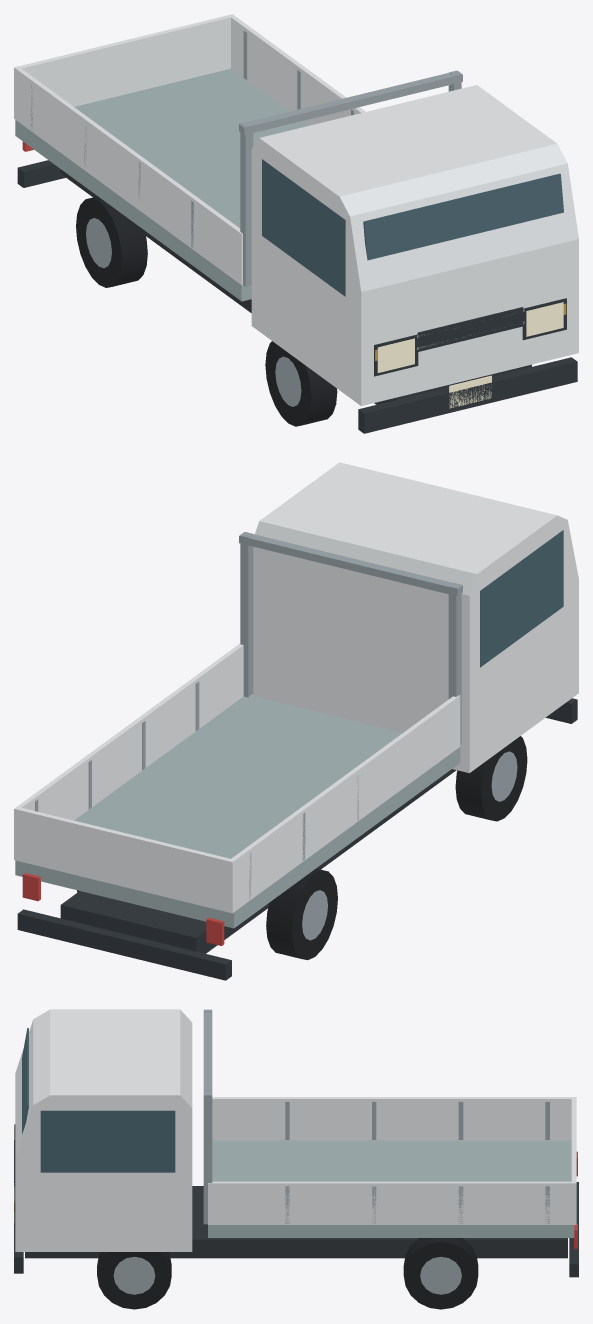
File: truck2t.glb
3 renders of one model, top to bottom at view 1: azimuth 30°, elevation 25°; view 2: azimuth 150°, elevation 25°; view 3: azimuth 270°, elevation 25°, orthographic. The views are drawn at different scales.
Parts seen in each view (by area): view 1: cab, flatbed-floor, sideboard (×2), tailgate, windshield, tire (×2), side-window, front-bumper, headboard-top, grille, headlamp (×2), wheel-hub (×2) (+4 smaller); view 2: cab, flatbed-floor, sideboard (×2), tailgate, tire (×2), side-window, chassis, rear-bumper, headboard (×2), headboard-top, wheel-hub (×2); view 3: cab, sideboard (×2), flatbed-floor, side-window, chassis, tire (×2), wheel-hub (×2), headboard, headboard-top, tailgate, windshield, rear-bumper.
Part boxes in pixels (x1,y1,x2,y2): cab: (251, 85, 578, 406); flatbed-floor: (15, 68, 308, 301); sideboard (×2): (15, 15, 365, 285); tailgate: (14, 14, 233, 120); windshield: (363, 173, 563, 260); tire (×2): (76, 196, 337, 426); side-window: (262, 159, 345, 296); front-bumper: (358, 357, 577, 433); headboard-top: (239, 70, 462, 134); grille: (417, 307, 523, 351); headlamp (×2): (377, 302, 563, 372); wheel-hub (×2): (86, 218, 301, 406); cab: (251, 462, 578, 773); flatbed-floor: (15, 695, 460, 928); sideboard (×2): (16, 643, 460, 911); tailgate: (14, 807, 235, 913); tire (×2): (266, 736, 527, 960); side-window: (480, 530, 563, 667); chassis: (60, 769, 456, 953); rear-bumper: (17, 909, 231, 980); headboard (×2): (240, 532, 461, 744); headboard-top: (239, 532, 462, 596); wheel-hub (×2): (302, 751, 517, 940); cab: (15, 1009, 192, 1251); sideboard (×2): (208, 1097, 574, 1224); flatbed-floor: (208, 1140, 574, 1237); side-window: (40, 1110, 175, 1172); chassis: (25, 1186, 567, 1258); tire (×2): (97, 1238, 478, 1309); wheel-hub (×2): (113, 1257, 461, 1294); headboard: (203, 1092, 212, 1224); headboard-top: (203, 1013, 212, 1101); tailgate: (571, 1097, 576, 1224); windshield: (22, 1028, 28, 1134); rear-bumper: (569, 1182, 578, 1277).
Bounding box in the file's own units: 1.7 × 1.97 × 4.69.
